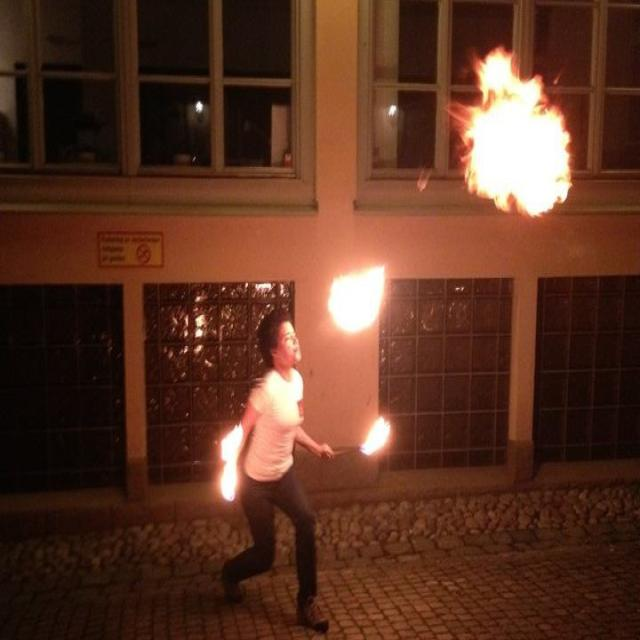fire: (446, 47, 571, 218), (327, 265, 385, 334), (221, 426, 243, 502)
